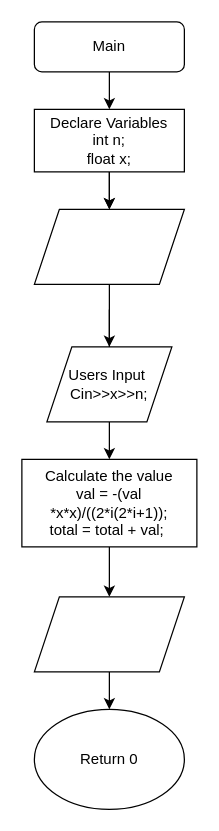
This 219x831 diagram has some shape labels left out. Each missing label, with the centre of its shape:
Display output: the point at 108,634
Input value of X: the point at 108,246
